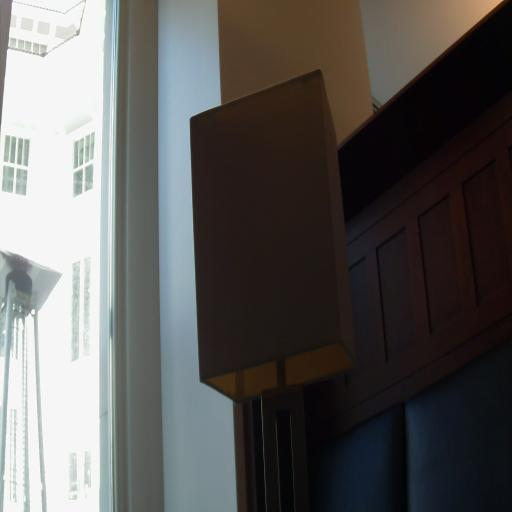lamp: (190, 70, 355, 512)
